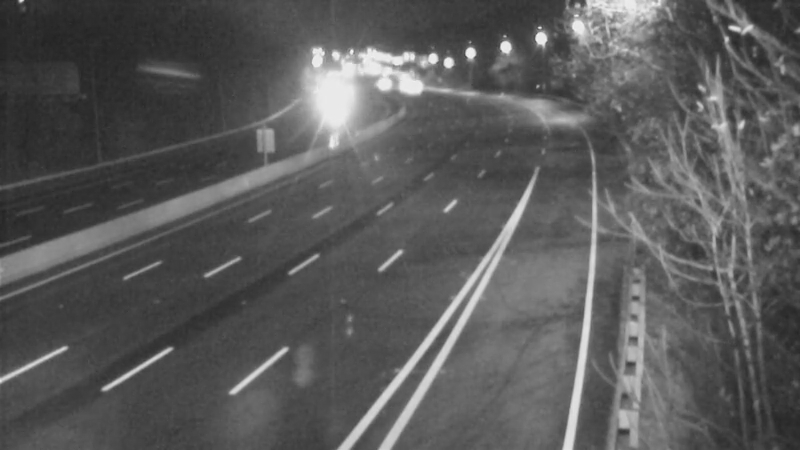vehicle: (356, 59, 406, 109), (381, 63, 431, 113), (302, 78, 352, 128)
